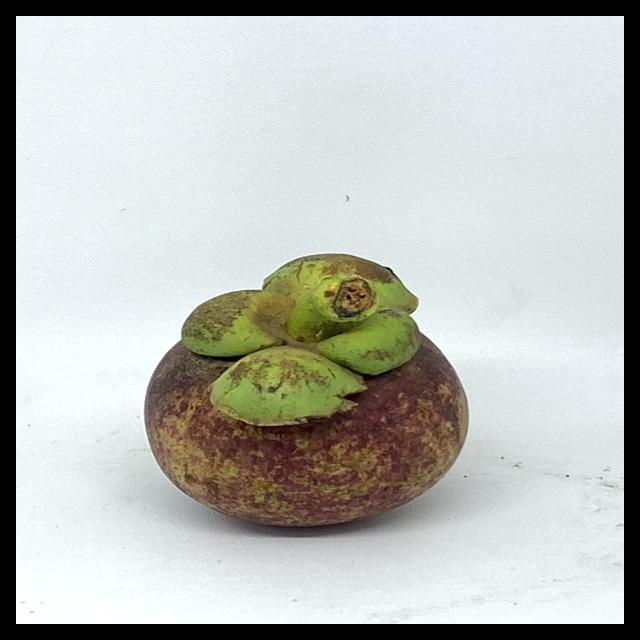mangosteen: (142, 247, 484, 549)
